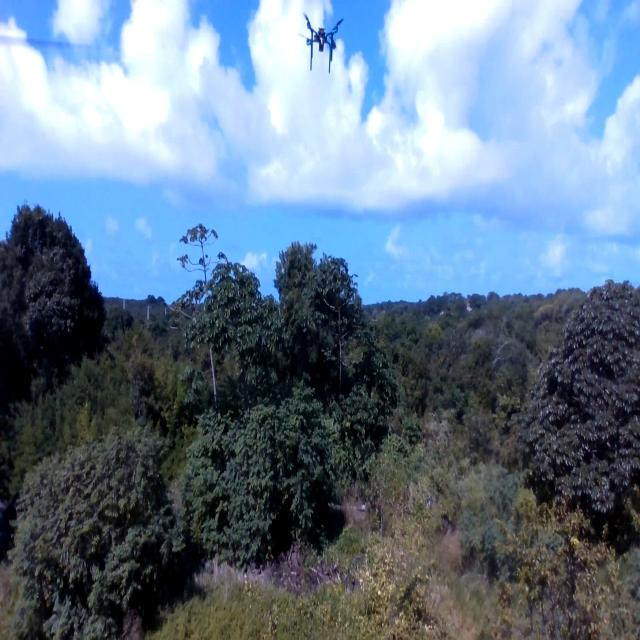-uav-: (296, 9, 354, 87)
